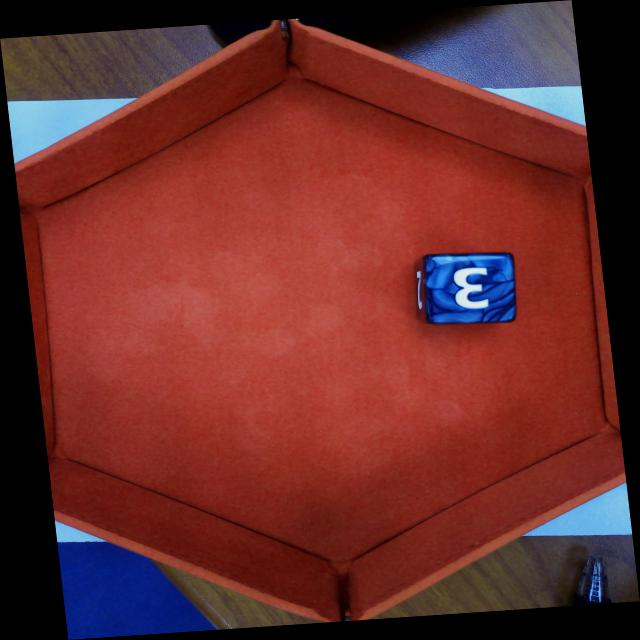dice: (431, 257, 515, 322)
